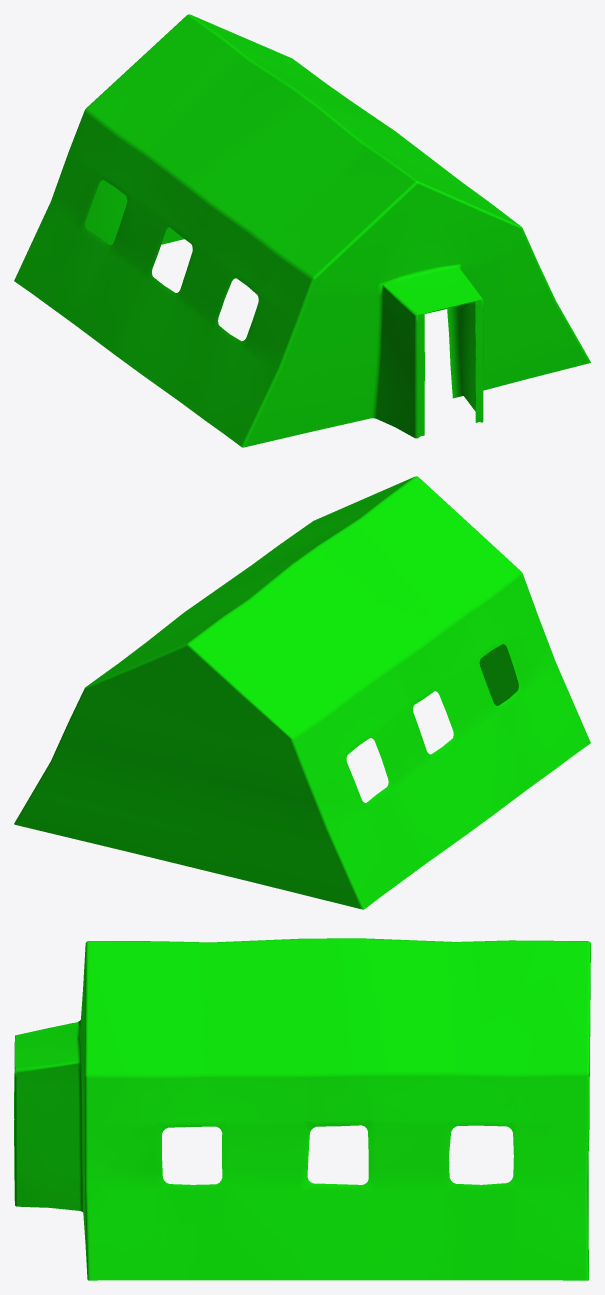
File: tent_reto.fbx
3 renders of one model, top to bottom at view 1: azimuth 30°, elevation 25°; view 2: azimuth 150°, elevation 25°; view 3: azimuth 270°, elevation 25°, orthographic. The views are drawn at different scales.
Visible parts, largest first — view 1: Plane.005; view 2: Plane.005; view 3: Plane.005.
Boxes of the visible parts, box(x1,y1,x2,y2) form: Plane.005: box(14, 14, 590, 447); Plane.005: box(14, 476, 590, 909); Plane.005: box(14, 938, 590, 1280).
Bounding box in the file's own units: 633 × 390 × 817.
